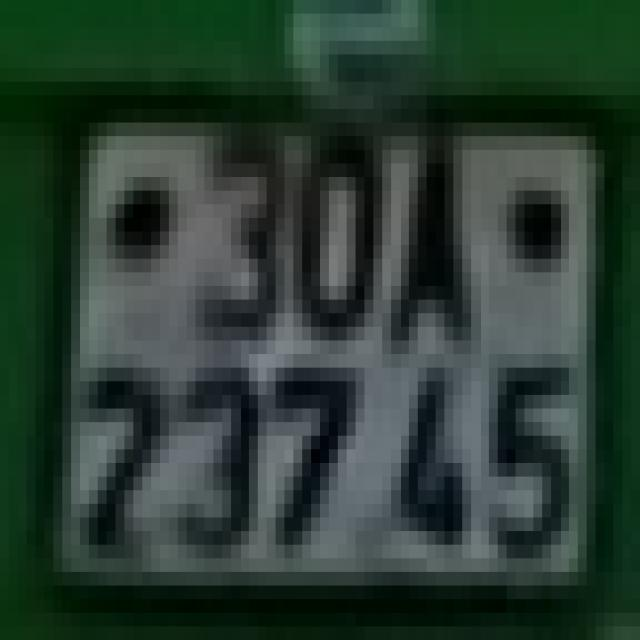0: (294, 122, 382, 340)
3: (196, 122, 284, 340), (178, 368, 258, 558)
4: (400, 368, 471, 544)
5: (489, 354, 578, 558)
7: (266, 368, 356, 558)
A: (391, 136, 480, 354)
